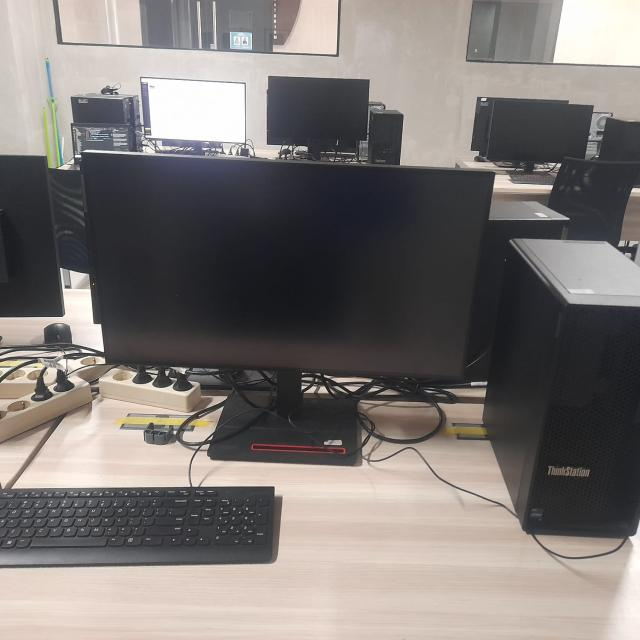keyboard: (1, 484, 278, 568)
monitor: (81, 150, 495, 466), (0, 153, 65, 320), (266, 75, 369, 161), (484, 98, 595, 174), (141, 76, 247, 154)
mouse: (43, 322, 73, 346)
pc: (480, 235, 640, 540), (464, 199, 571, 382), (70, 89, 143, 163), (366, 108, 404, 166)
